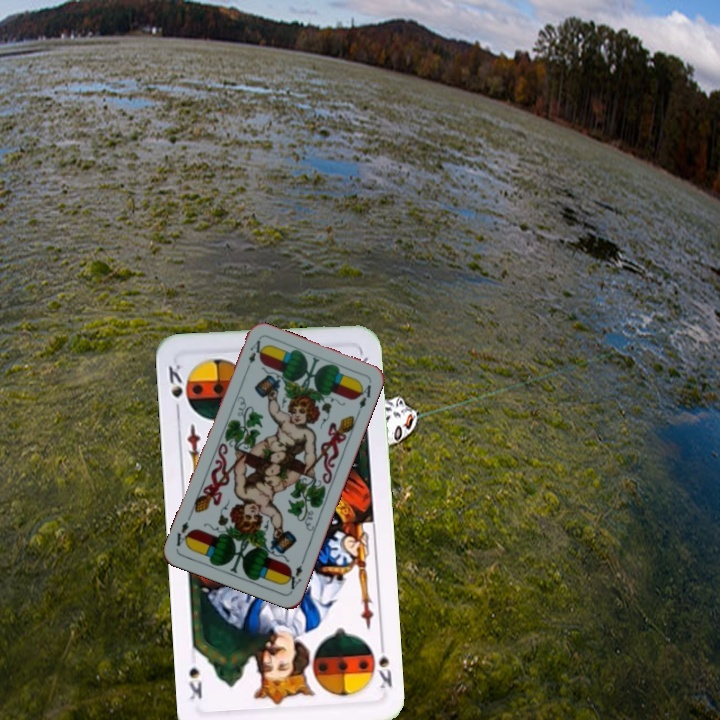EA: (282, 554, 307, 592), (242, 336, 263, 375)
SK: (164, 360, 185, 418), (373, 636, 394, 691)
